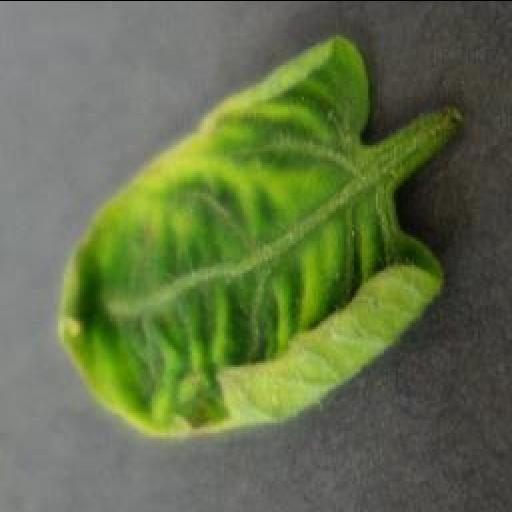disease_tomato: (52, 33, 446, 438)
